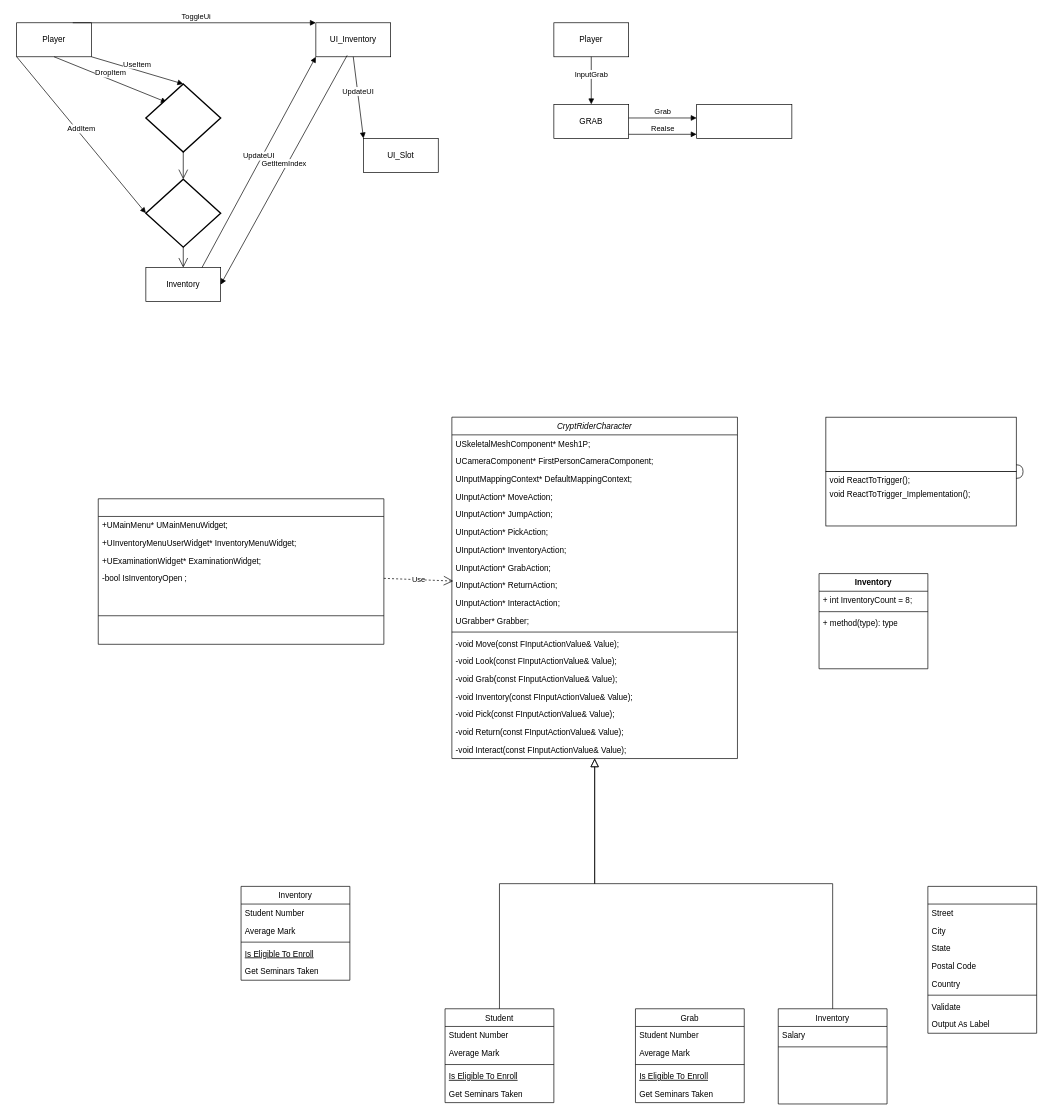
This 1049x1116 diagram has some shape labels left out. The box of each missing label's shape, as (x1, y1, x2, y2) in pixels:
CheckFreeSlot?: (145, 178, 221, 248)
CryptRiderPlayerController: (98, 498, 384, 644)
InventoryMasterItem: (696, 104, 792, 138)
IS_EMPTY?: (145, 83, 221, 152)
ItemDataMaster: (927, 886, 1037, 1033)
«interface» UPlayerInterFace: (825, 417, 1016, 472)
